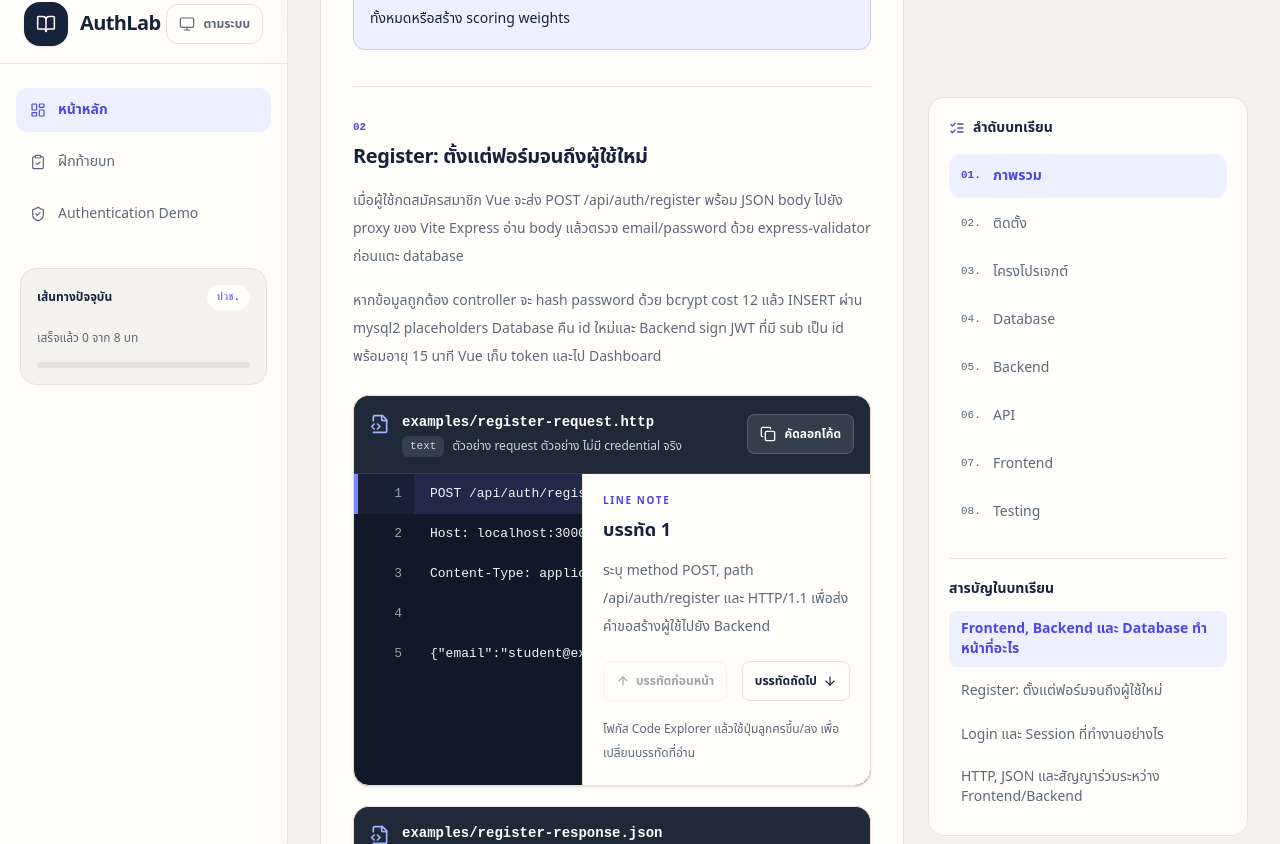
Test: LessonPage › copies lesson code and shows visible feedback
The image size is (1280, 844).
(page scrolled)
What coordinates should you click on to do the following:
click the button "คัดลอกโค้ด" in the row of "examples/register-request.http"
I would click on:
 (801, 434)
Its box is [747,414,854,454].
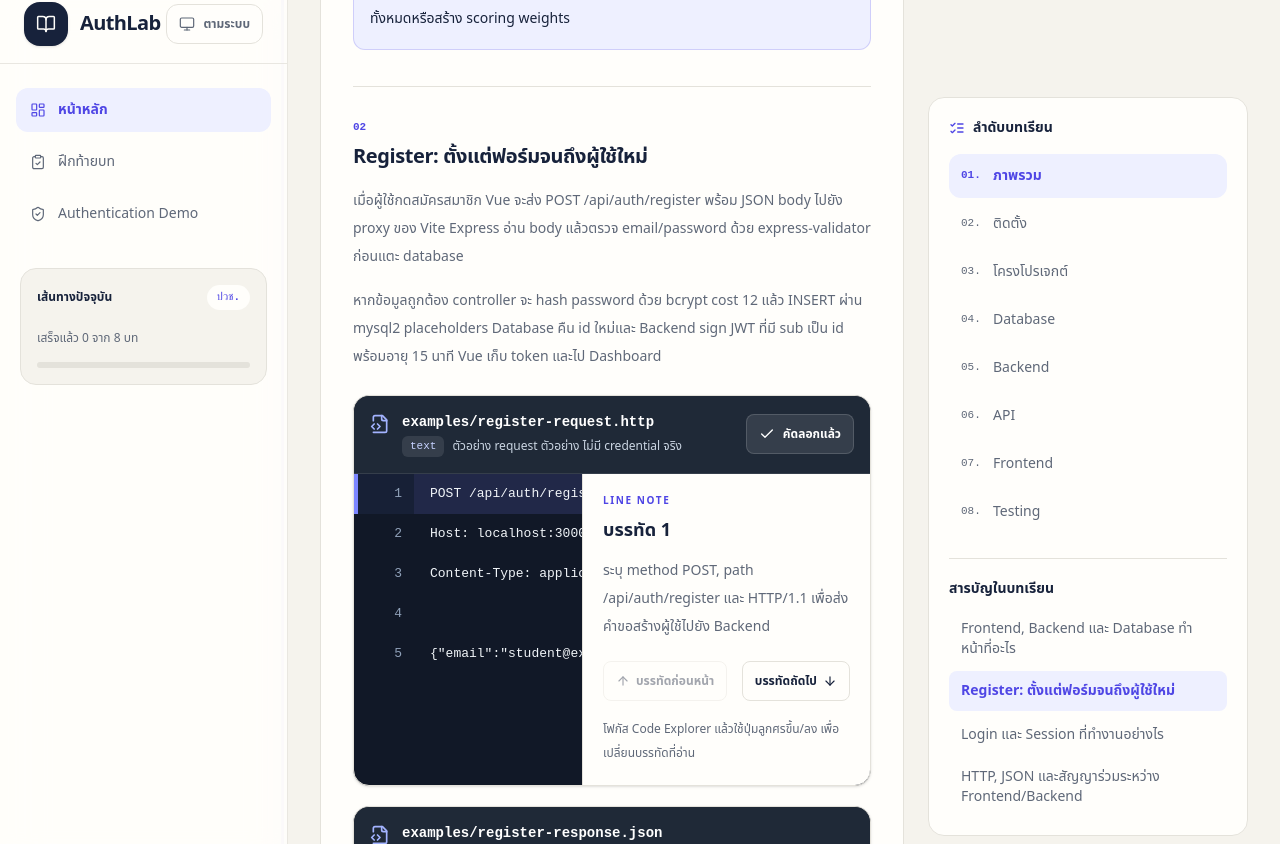
Expected: the text "คัดลอกแล้ว" is shown, [783,426,841,442]
